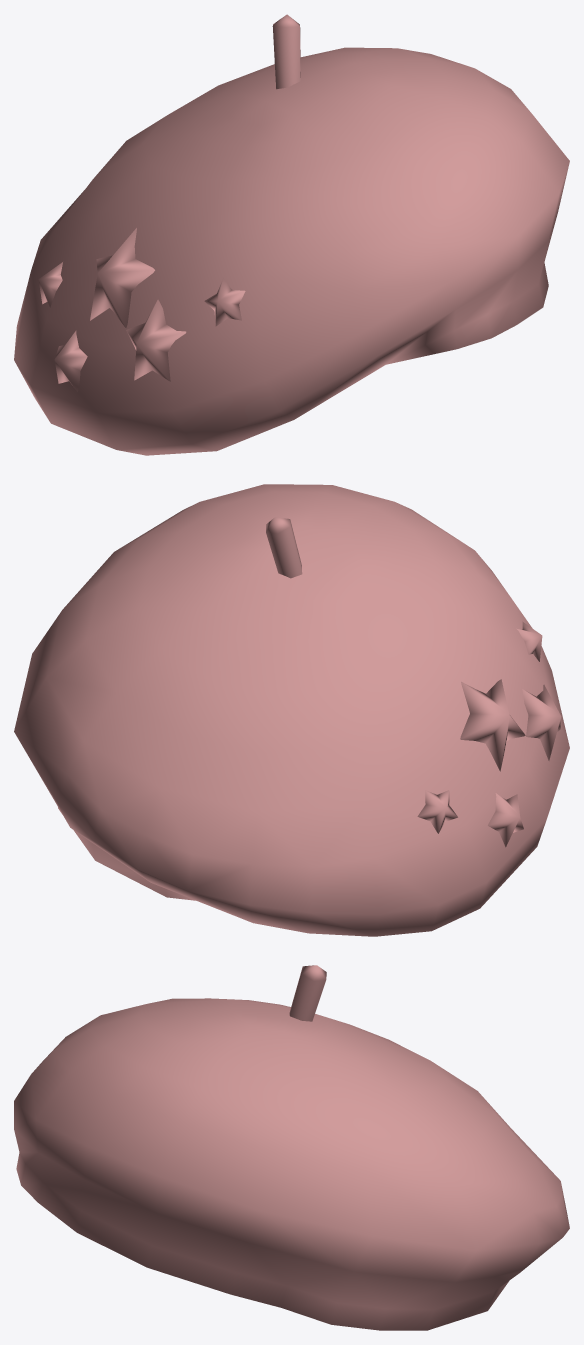
File: hat_003.fbx
3 views of the same model, one above another, from view 1: azimuth 30°, elevation 25°; view 2: azimuth 150°, elevation 25°; view 3: azimuth 270°, elevation 25° (orthographic). The views are drawn at different scales.
Visible parts, largest first — view 1: hat_003_m; view 2: hat_003_m; view 3: hat_003_m.
Boxes of the visible parts, <box> form: hat_003_m: <box>14,14,569,455</box>; hat_003_m: <box>14,484,569,936</box>; hat_003_m: <box>14,965,569,1330</box>.
Bounding box in the file's own units: 17.49 × 13.01 × 19.06.
